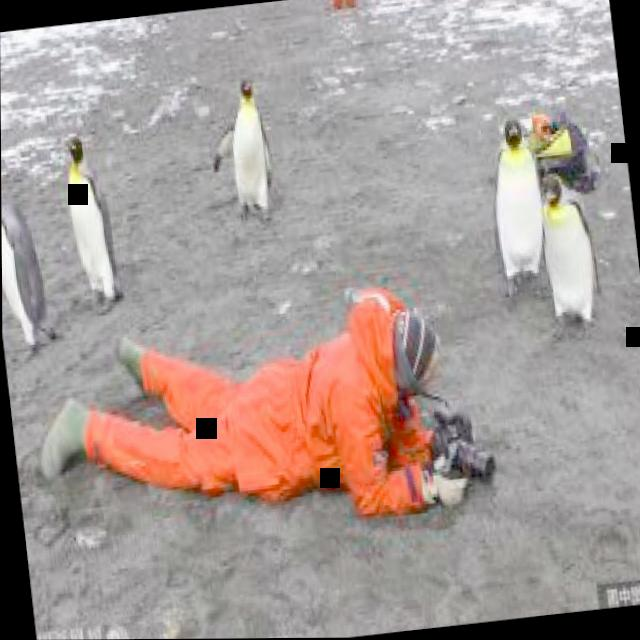Fall-Detected: (21, 244, 501, 546)
